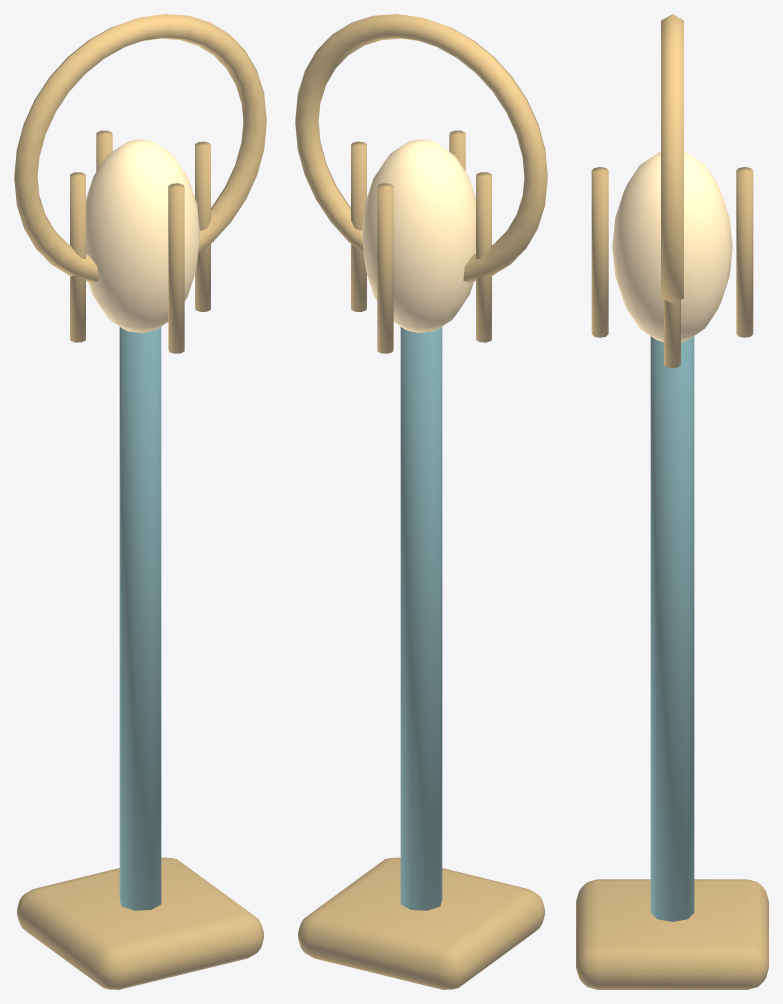
File: sky_lantern.glb
The picture shows the model from 3 angles, left to right: view 1: azimuth 30°, elevation 25°; view 2: azimuth 150°, elevation 25°; view 3: azimuth 270°, elevation 25°; orthographic projection.
Visible parts, largest first — view 1: sky_lantern_surface; view 2: sky_lantern_surface; view 3: sky_lantern_surface.
Part boxes in pixels (x1,y1,x2,y2): sky_lantern_surface: (14,14,266,989); sky_lantern_surface: (295,14,547,989); sky_lantern_surface: (576,14,768,989).
Bounding box in the file's own units: 1.21 × 4.26 × 0.8.
